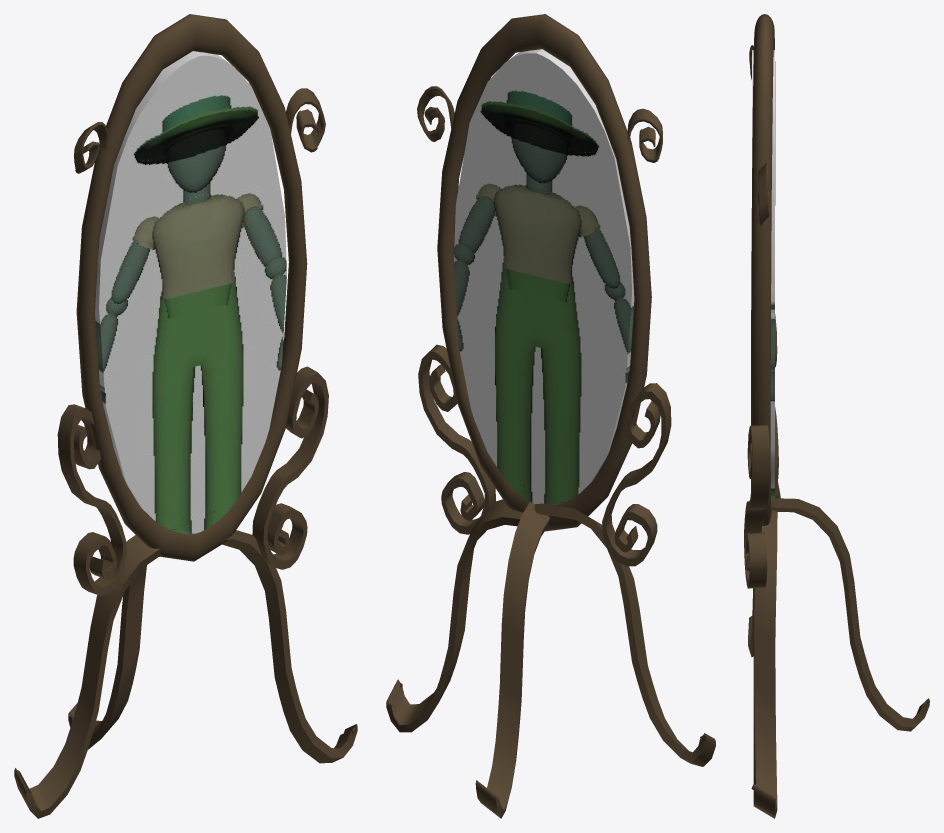
File: gardner mirror reflection.fbx
The picture shows the model from 3 angles, left to right: view 1: azimuth 30°, elevation 25°; view 2: azimuth 150°, elevation 25°; view 3: azimuth 270°, elevation 25°; orthographic projection. The views are drawn at different scales.
Visible parts, largest first — view 1: polySurface6, polySurface10, polySurface2, polySurface4, polySurface5, polySurface9, polySurface1, polySurface3, polySurface8; view 2: polySurface6, polySurface10, polySurface1, polySurface4, polySurface5, polySurface9, polySurface2, polySurface8, polySurface3; view 3: polySurface10, polySurface9, polySurface1, polySurface4, polySurface6, polySurface3, polySurface2.
Part boxes in pixels (<box>): polySurface6: <box>95,51,286,533</box>; polySurface10: <box>76,14,307,561</box>; polySurface2: <box>14,535,162,818</box>; polySurface4: <box>252,366,328,569</box>; polySurface5: <box>57,404,126,595</box>; polySurface9: <box>222,530,357,763</box>; polySurface1: <box>68,546,192,749</box>; polySurface3: <box>286,88,325,152</box>; polySurface8: <box>74,122,108,173</box>; polySurface6: <box>454,49,634,504</box>; polySurface10: <box>437,14,651,531</box>; polySurface1: <box>475,502,550,818</box>; polySurface4: <box>418,344,495,534</box>; polySurface5: <box>602,383,671,566</box>; polySurface9: <box>386,499,522,732</box>; polySurface2: <box>534,503,715,766</box>; polySurface8: <box>627,108,662,162</box>; polySurface3: <box>417,86,454,141</box>; polySurface10: <box>751,14,775,525</box>; polySurface9: <box>751,510,777,818</box>; polySurface1: <box>771,498,929,731</box>; polySurface4: <box>744,424,769,588</box>; polySurface6: <box>752,50,774,499</box>; polySurface3: <box>757,162,769,225</box>; polySurface2: <box>748,473,780,657</box>.
Size of the model in its own units: 5.61 by 12.63 by 2.9.
